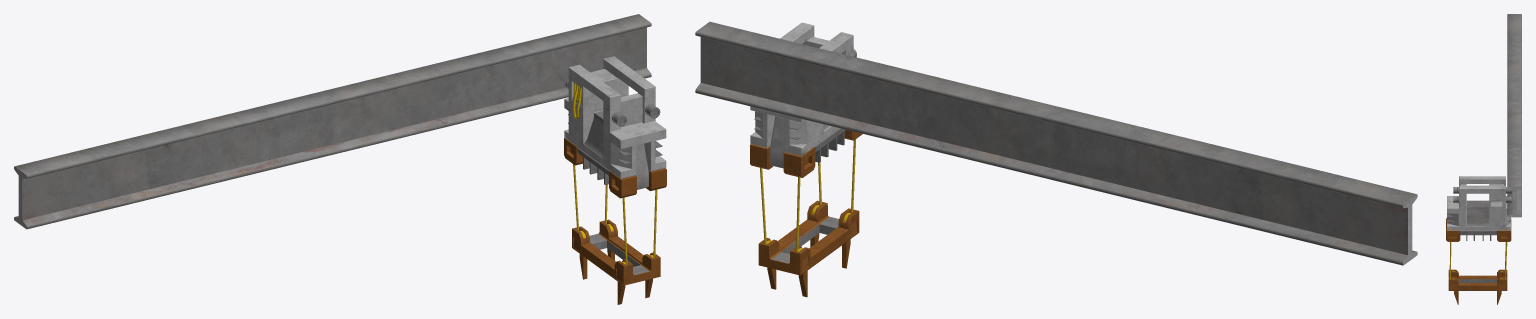
Rendered from crane.fbx.
3 renders of one model, left to right at view 1: azimuth 30°, elevation 25°; view 2: azimuth 150°, elevation 25°; view 3: azimuth 270°, elevation 25°, orthographic. The views are drawn at different scales.
Parts seen in each view (by area): view 1: Slab, Engine, Crane; view 2: Slab, Crane, Engine; view 3: Engine, Slab, Crane.
Part boxes in pixels (x1,y1,x2,y2): Slab: (14, 14, 651, 229); Engine: (564, 56, 666, 178); Crane: (564, 138, 666, 304); Slab: (695, 21, 1417, 265); Crane: (750, 116, 862, 297); Engine: (750, 22, 856, 155); Engine: (1447, 176, 1511, 230); Slab: (1507, 14, 1521, 217); Crane: (1446, 218, 1511, 304).
Bounding box in the file's own units: 1429 × 505 × 265.
